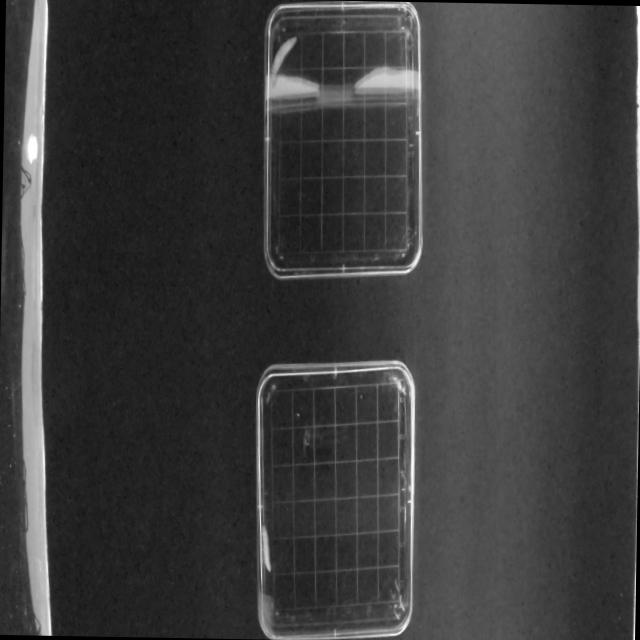larva: (266, 33, 296, 88), (256, 520, 276, 573)
